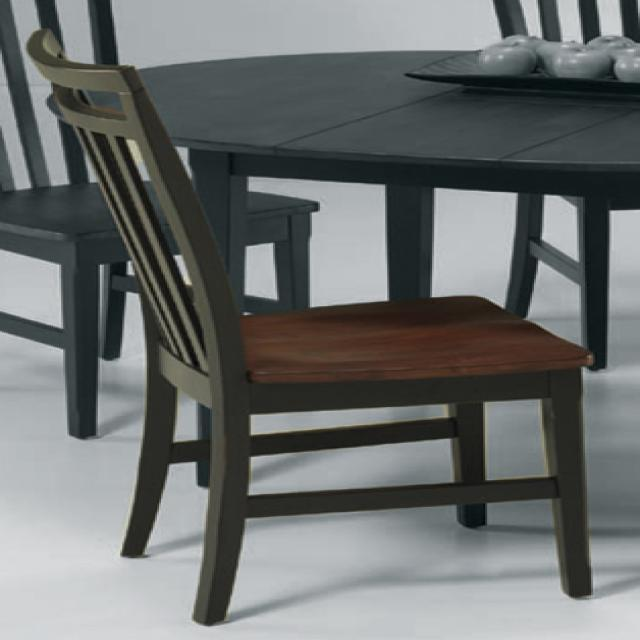chair: (25, 26, 602, 627)
